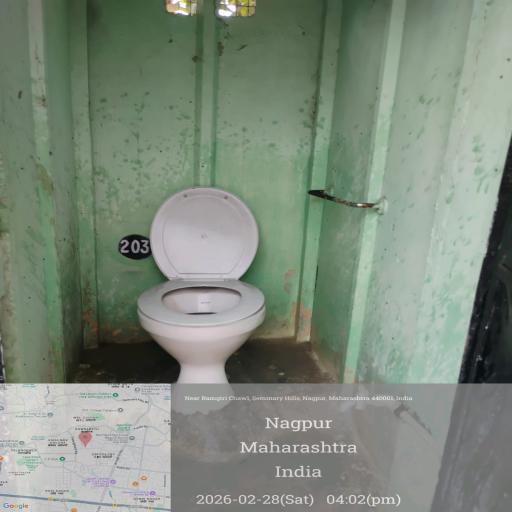clean_western: (122, 171, 286, 414)
partial_dirty_floor: (0, 1, 456, 170), (52, 343, 372, 512)
